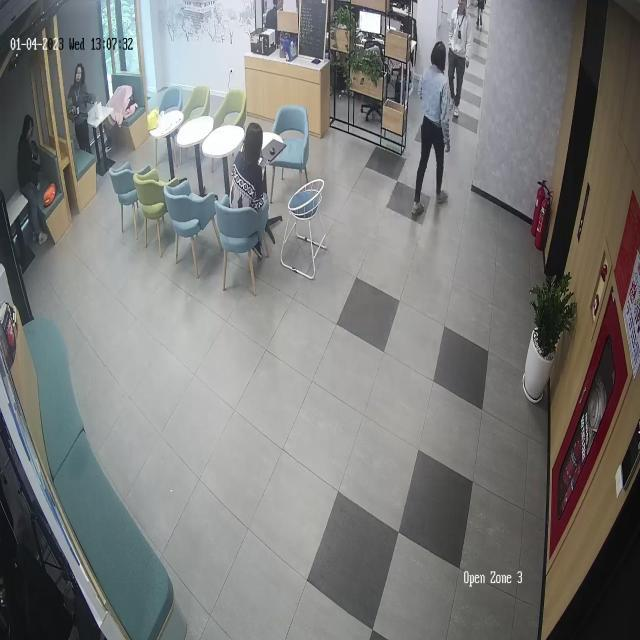person: (412, 40, 452, 215), (229, 121, 272, 256), (17, 114, 50, 245), (448, 0, 472, 116), (67, 64, 97, 154)
